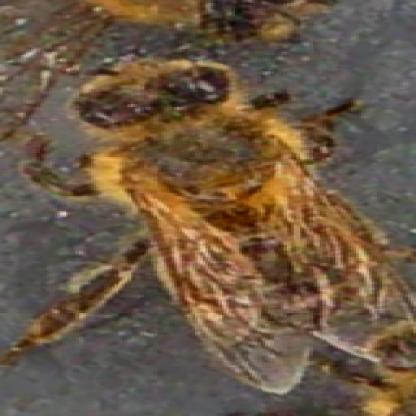bee: (57, 60, 416, 402), (0, 0, 320, 39)
